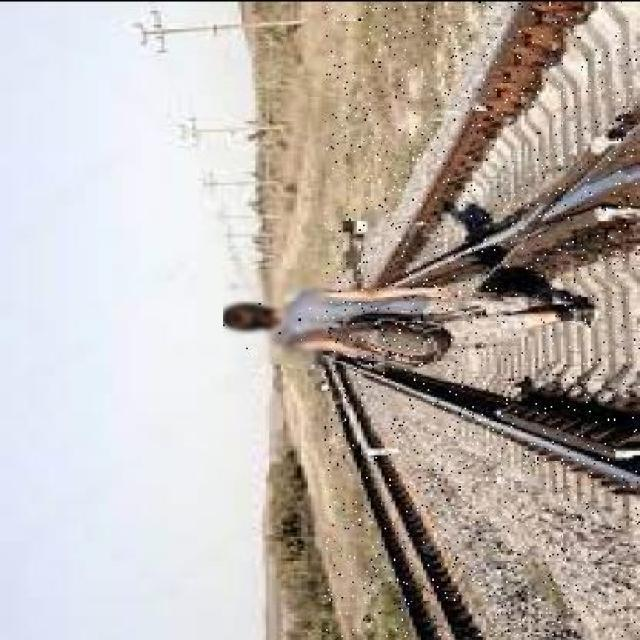danger: (224, 268, 596, 364)
rail: (324, 0, 640, 635)
